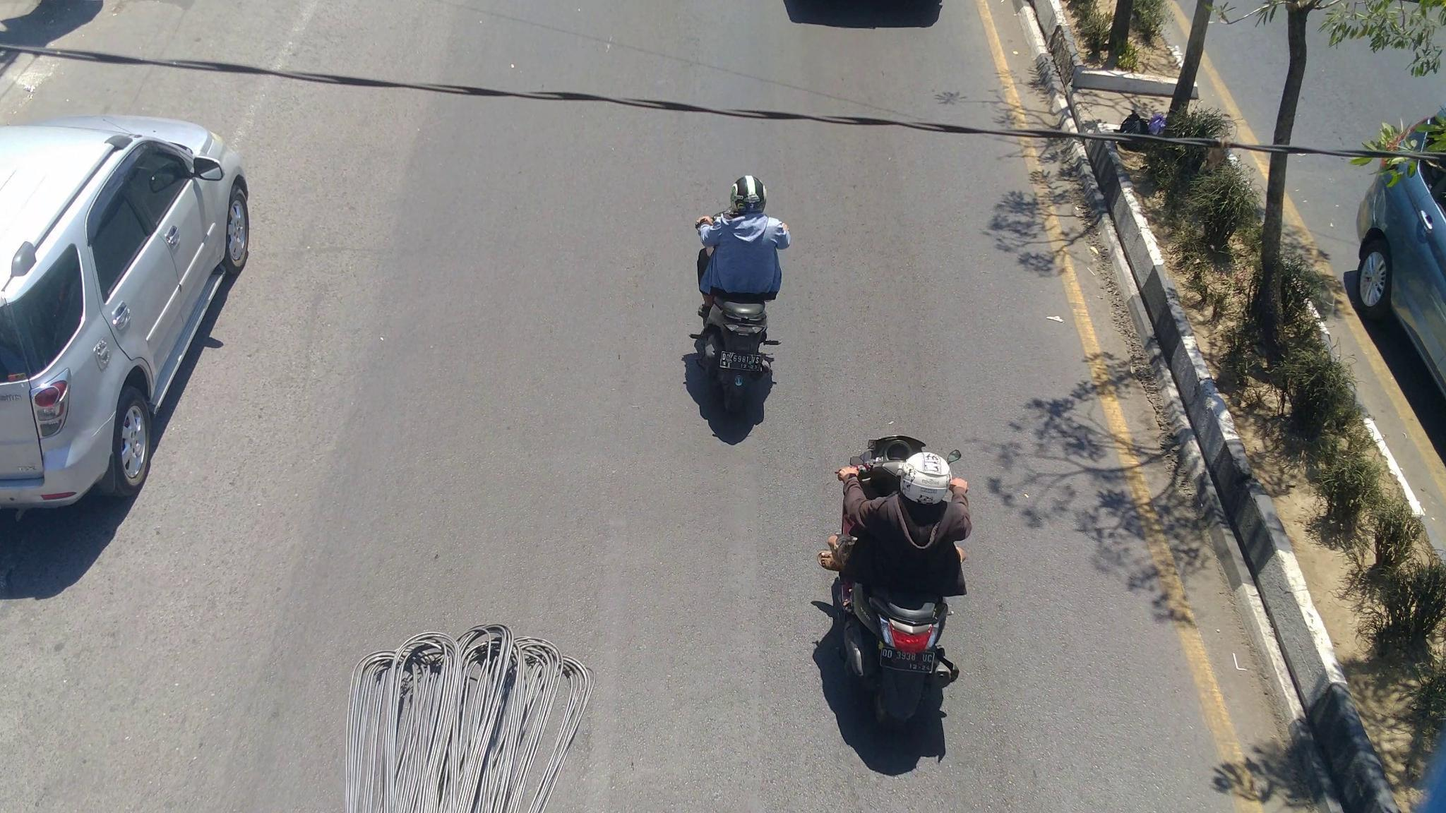Helmet: (897, 443, 959, 510), (727, 168, 772, 226)
bike: (838, 432, 970, 728), (693, 168, 790, 418)
number-plate: (877, 646, 935, 674), (721, 349, 763, 373)
rider: (822, 446, 978, 603), (694, 170, 792, 306)
